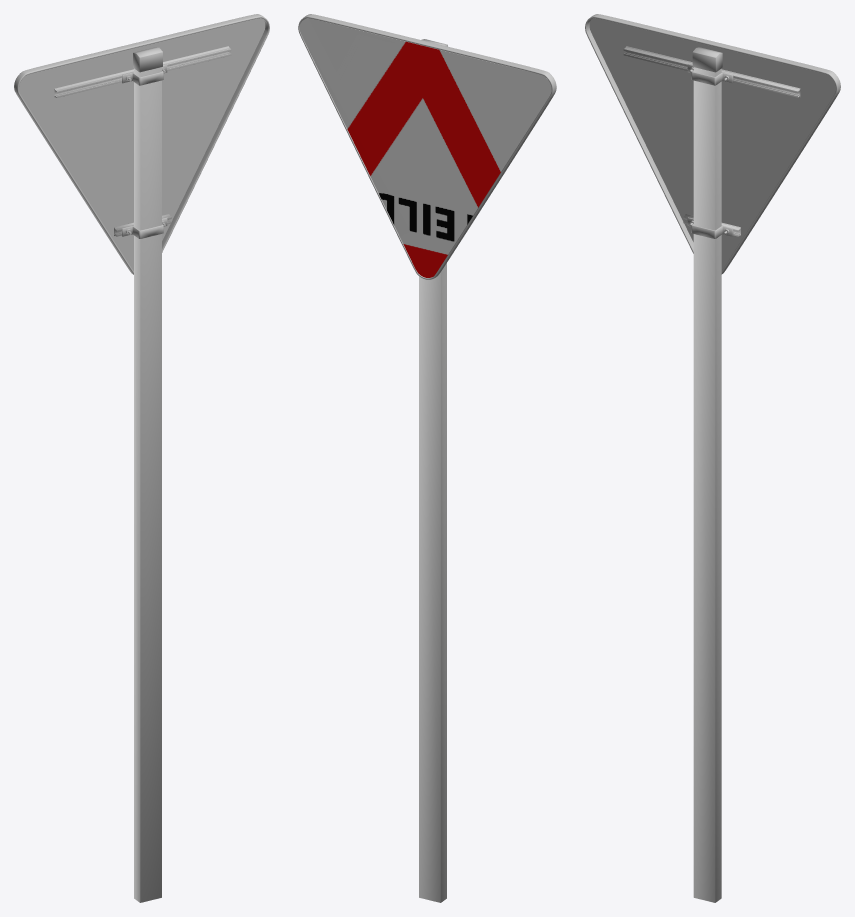
Rendered from yeild.FBX.
The picture shows the model from 3 angles, left to right: view 1: azimuth 30°, elevation 25°; view 2: azimuth 150°, elevation 25°; view 3: azimuth 330°, elevation 25°; orthographic projection.
Parts seen in each view (by area): view 1: Plane03, Box28, Box01, rail_bas; view 2: Plane03, Box28, Box01; view 3: Box28, Plane03, Box01, rail_bas.
Boxes of the visible parts, left/top/right/bottom form: Plane03: left=19, top=18, right=265, bottom=270; Box28: left=133, top=47, right=162, bottom=902; Box01: left=14, top=14, right=269, bottom=274; rail_bas: left=54, top=46, right=231, bottom=97; Plane03: left=300, top=18, right=551, bottom=277; Box28: left=419, top=39, right=447, bottom=902; Box01: left=298, top=14, right=556, bottom=279; Box28: left=692, top=47, right=722, bottom=902; Plane03: left=589, top=18, right=835, bottom=270; Box01: left=585, top=14, right=840, bottom=274; rail_bas: left=623, top=46, right=800, bottom=97.
Size of the model in its own units: 36.31 by 117 by 2.92.
